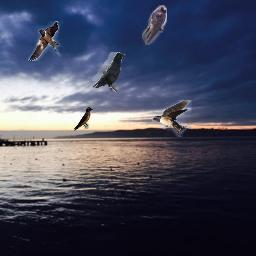Crow: (92, 52, 126, 92)
Swallow: (152, 100, 192, 137), (28, 21, 64, 61), (142, 5, 167, 45), (74, 107, 93, 131)
